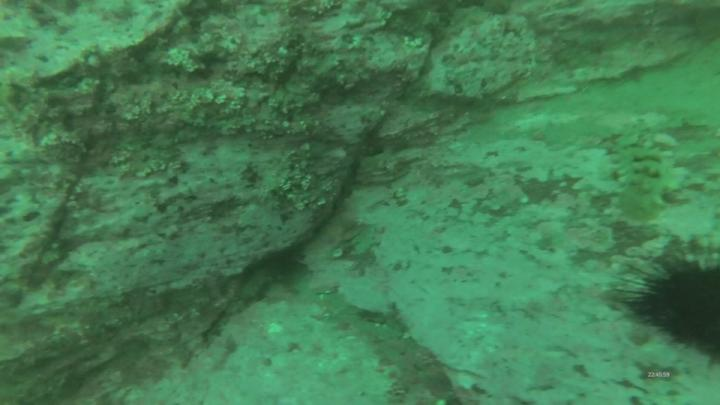echinus: (612, 246, 720, 371)
holothurian: (619, 135, 672, 219)
